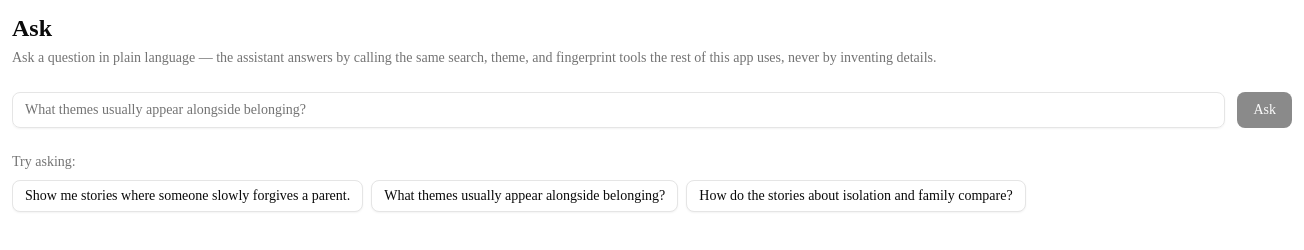
Test case: AskPage › shows which tools were used when an answer is available
Type "What goes with belonging?" into the field with placeholder "What themes usually appear alongside belonging?" at (619, 110), box [12, 92, 1225, 128]
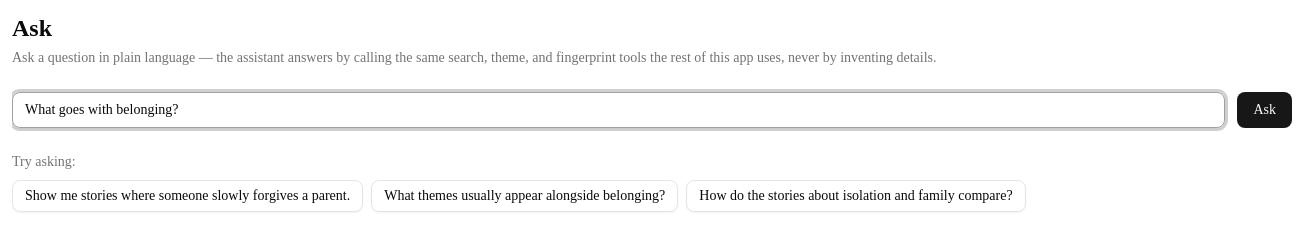
Click the button "Ask" at (1265, 110), box [1237, 92, 1292, 128]
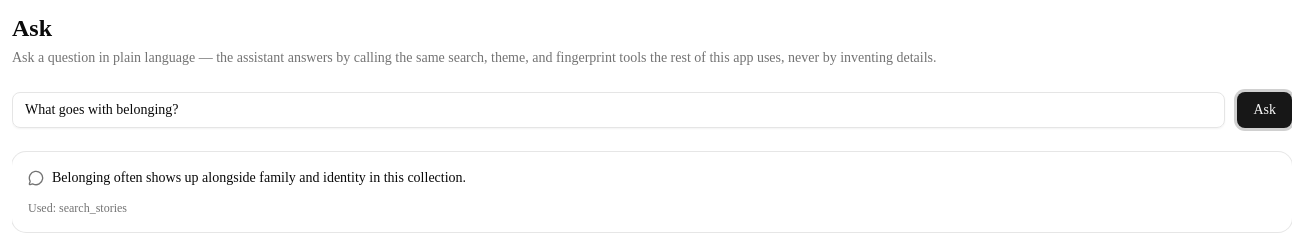
Check: the text "Belonging often shows up" is shown, box [52, 170, 466, 185]
Check: the text "Used: search_stories" is shown, box [28, 201, 127, 215]
